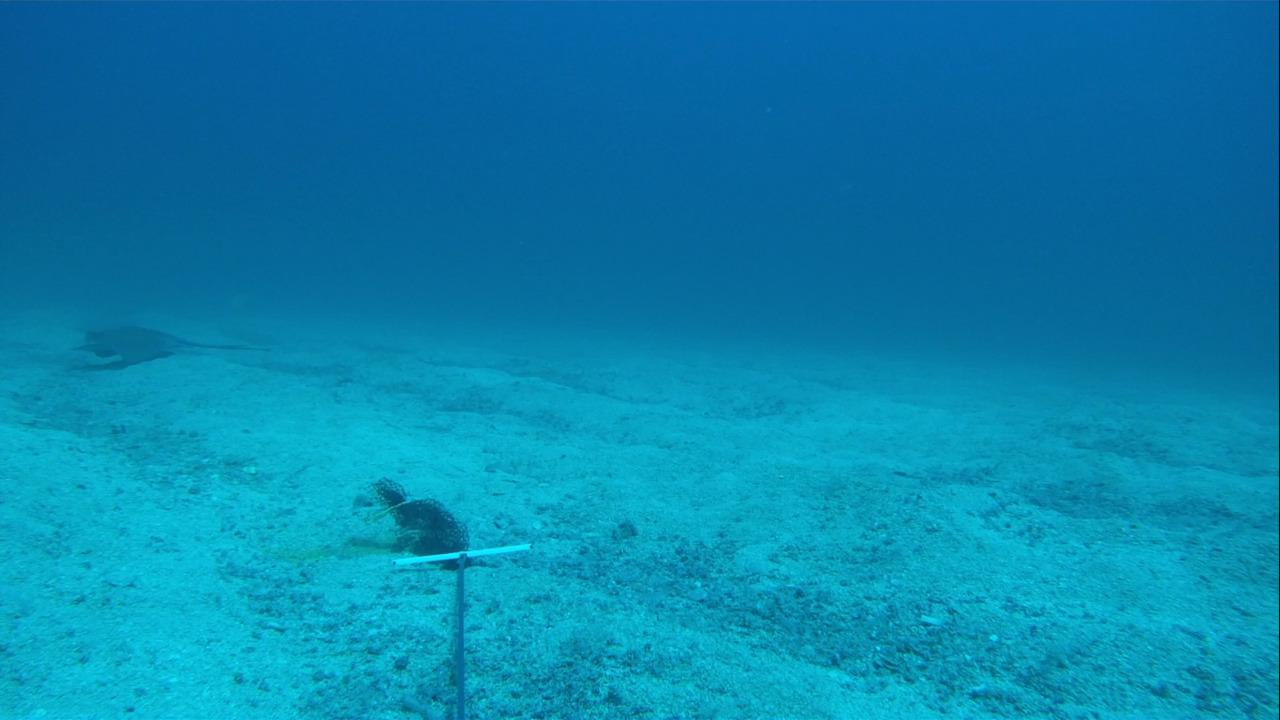myliobatis: (64, 317, 253, 363)
